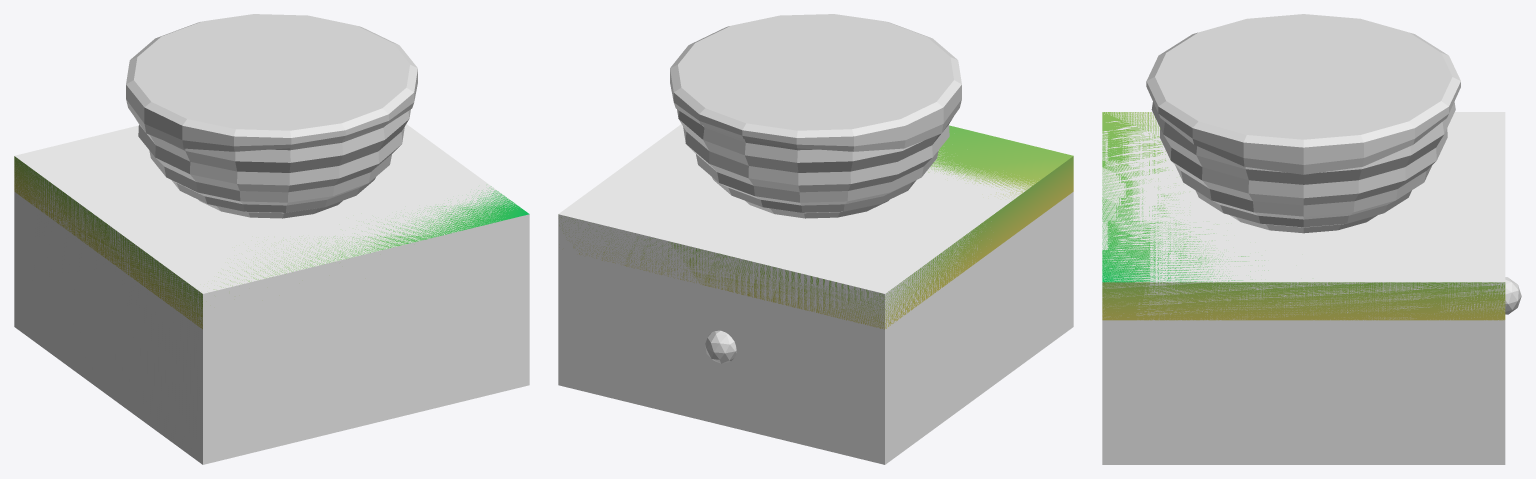
File: ProofingBowl.fbx
3 renders of one model, left to right at view 1: azimuth 30°, elevation 25°; view 2: azimuth 150°, elevation 25°; view 3: azimuth 270°, elevation 25°, orthographic. The views are drawn at different scales.
Parts seen in each view (by area): view 1: Block, Cloth, Bowl.001, Base_L_Counter.blend, Top; view 2: Block, Cloth, Bowl.001, Base_L_Counter.blend, Top, Handle_L_Counter.blend; view 3: Block, Cloth, Base_L_Counter.blend, Bowl.001, Top, Handle_L_Counter.blend.
Boxes of the visible parts, left/top/right/bottom form: Block: left=14, top=124, right=529, bottom=464; Cloth: left=126, top=14, right=417, bottom=151; Bowl.001: left=135, top=109, right=410, bottom=218; Base_L_Counter.blend: left=14, top=156, right=202, bottom=329; Top: left=213, top=186, right=529, bottom=289; Block: left=558, top=124, right=1073, bottom=464; Cloth: left=670, top=14, right=961, bottom=151; Bowl.001: left=677, top=109, right=952, bottom=218; Base_L_Counter.blend: left=559, top=156, right=1073, bottom=329; Top: left=928, top=125, right=1073, bottom=197; Handle_L_Counter.blend: left=705, top=330, right=736, bottom=363; Block: left=1102, top=112, right=1505, bottom=464; Cloth: left=1146, top=14, right=1460, bottom=174; Base_L_Counter.blend: left=1102, top=282, right=1505, bottom=320; Bowl.001: left=1151, top=102, right=1455, bottom=233; Top: left=1102, top=112, right=1268, bottom=282; Handle_L_Counter.blend: left=1505, top=277, right=1521, bottom=314.
Bounding box in the file's own units: 100 × 82.94 × 104.
